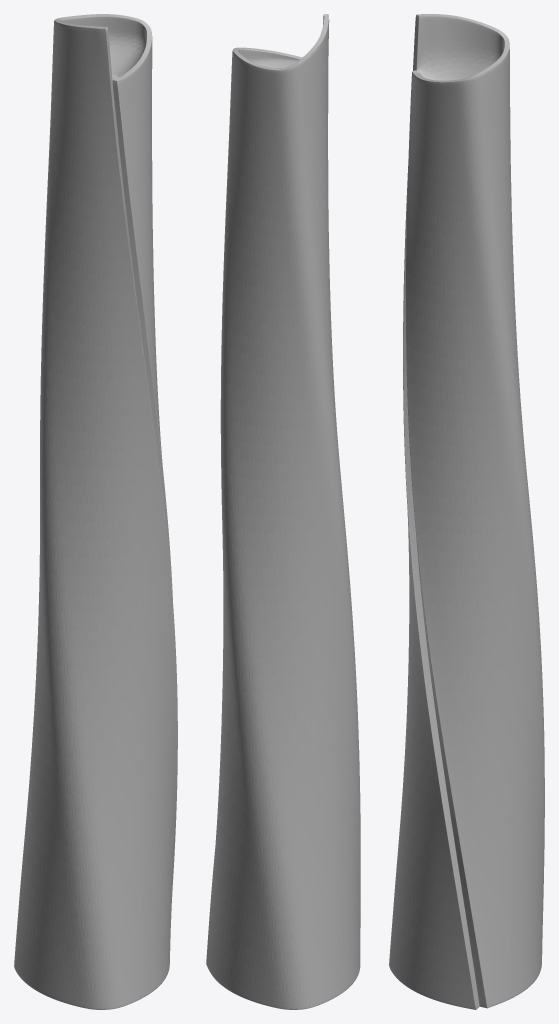
The model's file is ssang.glb.
The picture shows the model from 3 angles, left to right: view 1: azimuth 30°, elevation 25°; view 2: azimuth 150°, elevation 25°; view 3: azimuth 270°, elevation 25°; orthographic projection. The views are drawn at different scales.
Visible parts, largest first — view 1: node_id30; view 2: node_id30; view 3: node_id30.
Boxes of the visible parts, left/top/right/bottom form: node_id30: left=14, top=14, right=177, bottom=1009; node_id30: left=206, top=14, right=360, bottom=1009; node_id30: left=389, top=14, right=544, bottom=1009.
Bounding box in the file's own units: 0.0764 × 0.512 × 0.076.
Materials: 1 (1 with a texture image).
